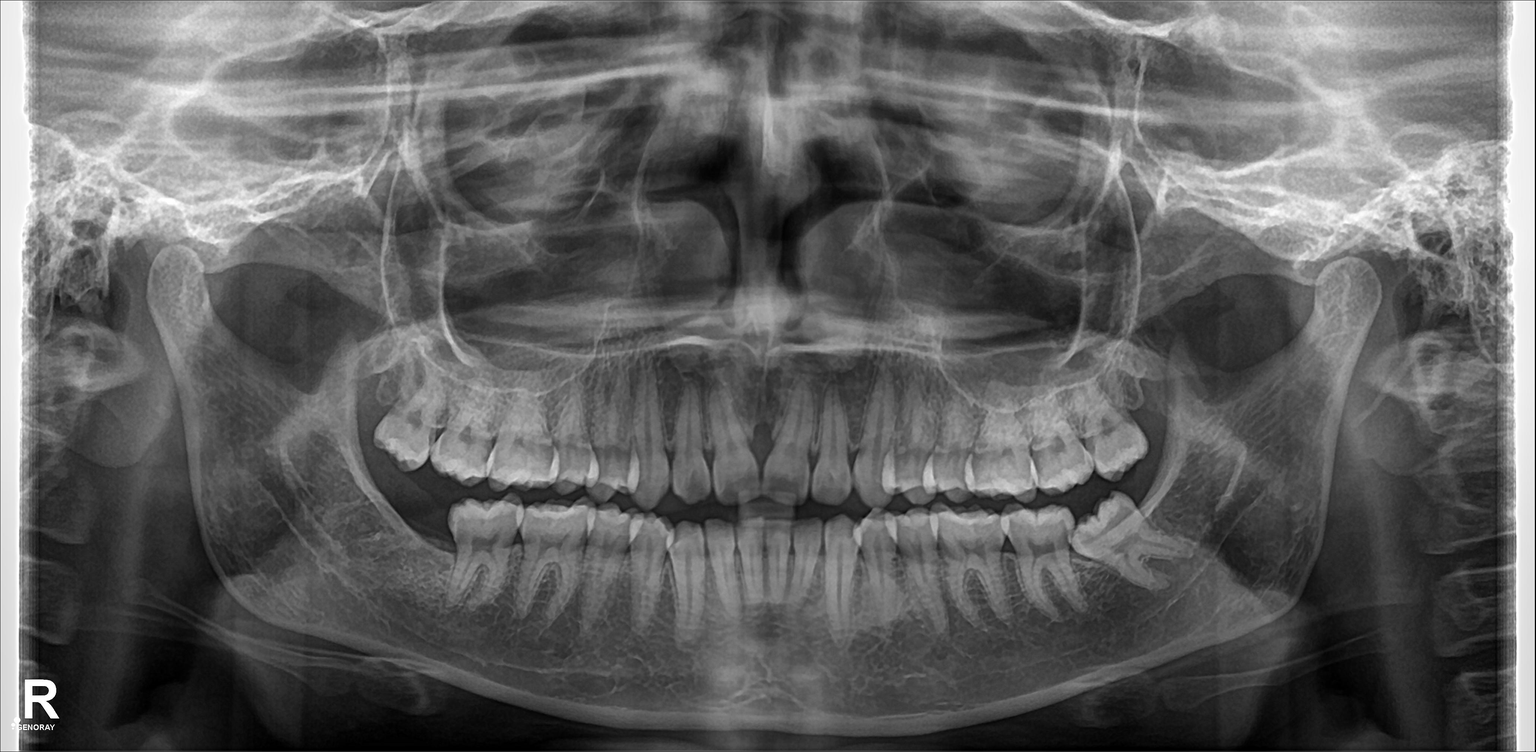Impacted Third Molar: (1078, 510, 1195, 579)
Missing Tooth: (402, 486, 451, 576), (1130, 363, 1174, 451)
